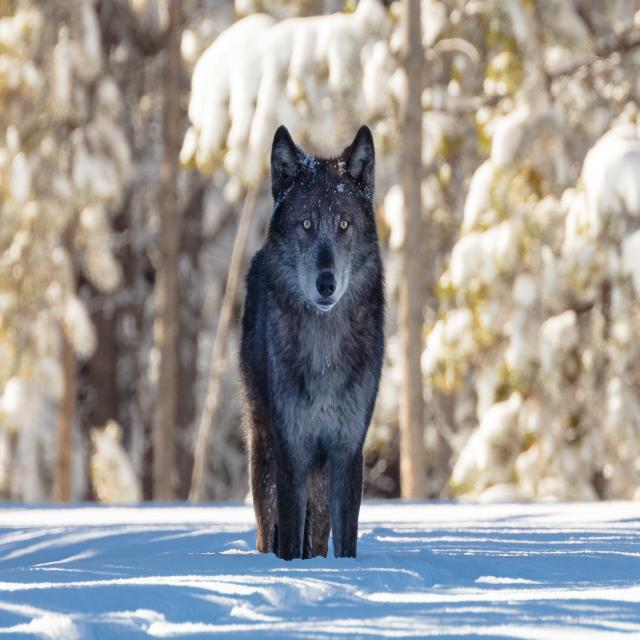wolf: (240, 125, 385, 560)
